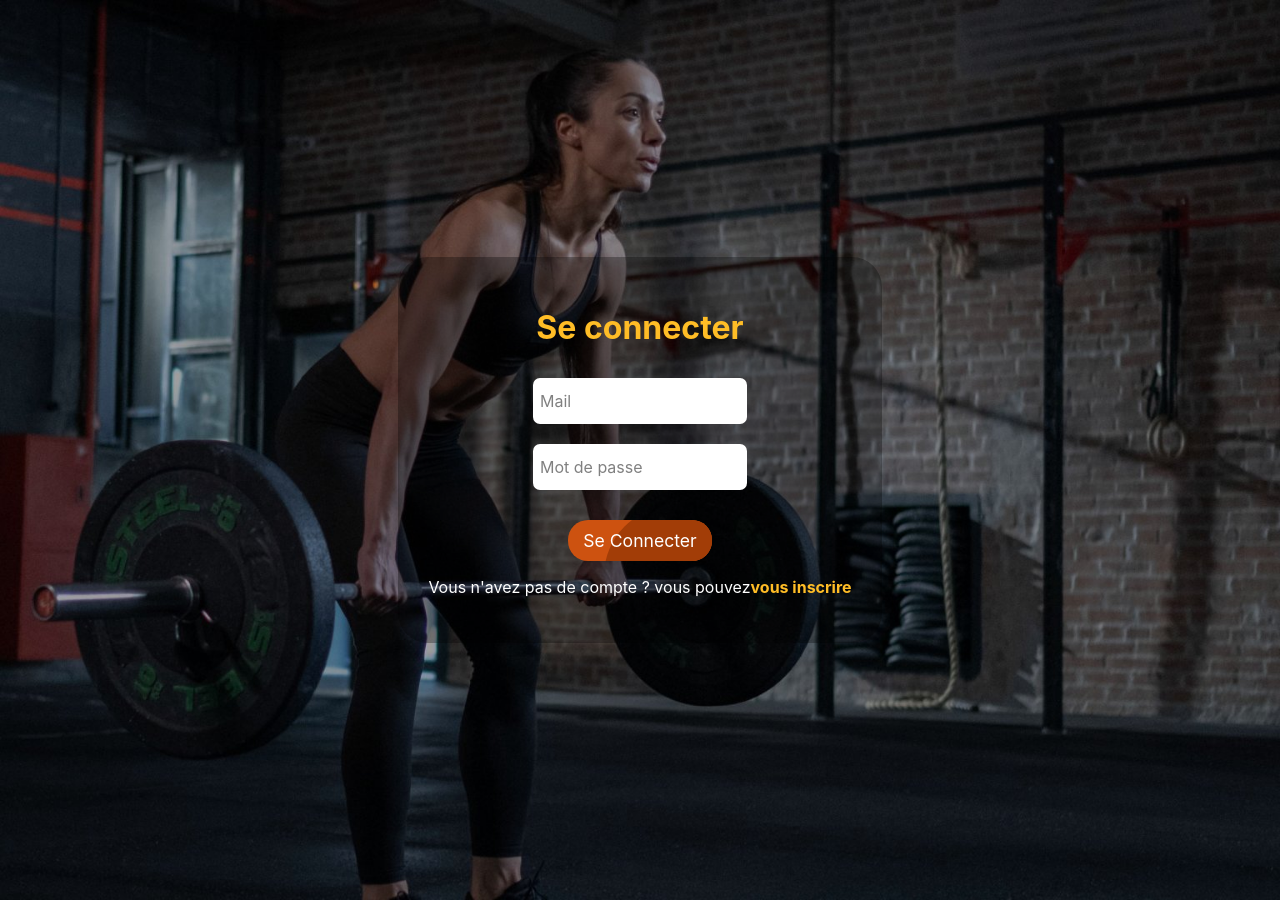
Signin Testing › Err with empty pass
# user type mail adress
In the field with placeholder "Mail": (640, 401) top-left (533, 378), bottom-right (747, 424), type "uneadressemail@gmail.com"
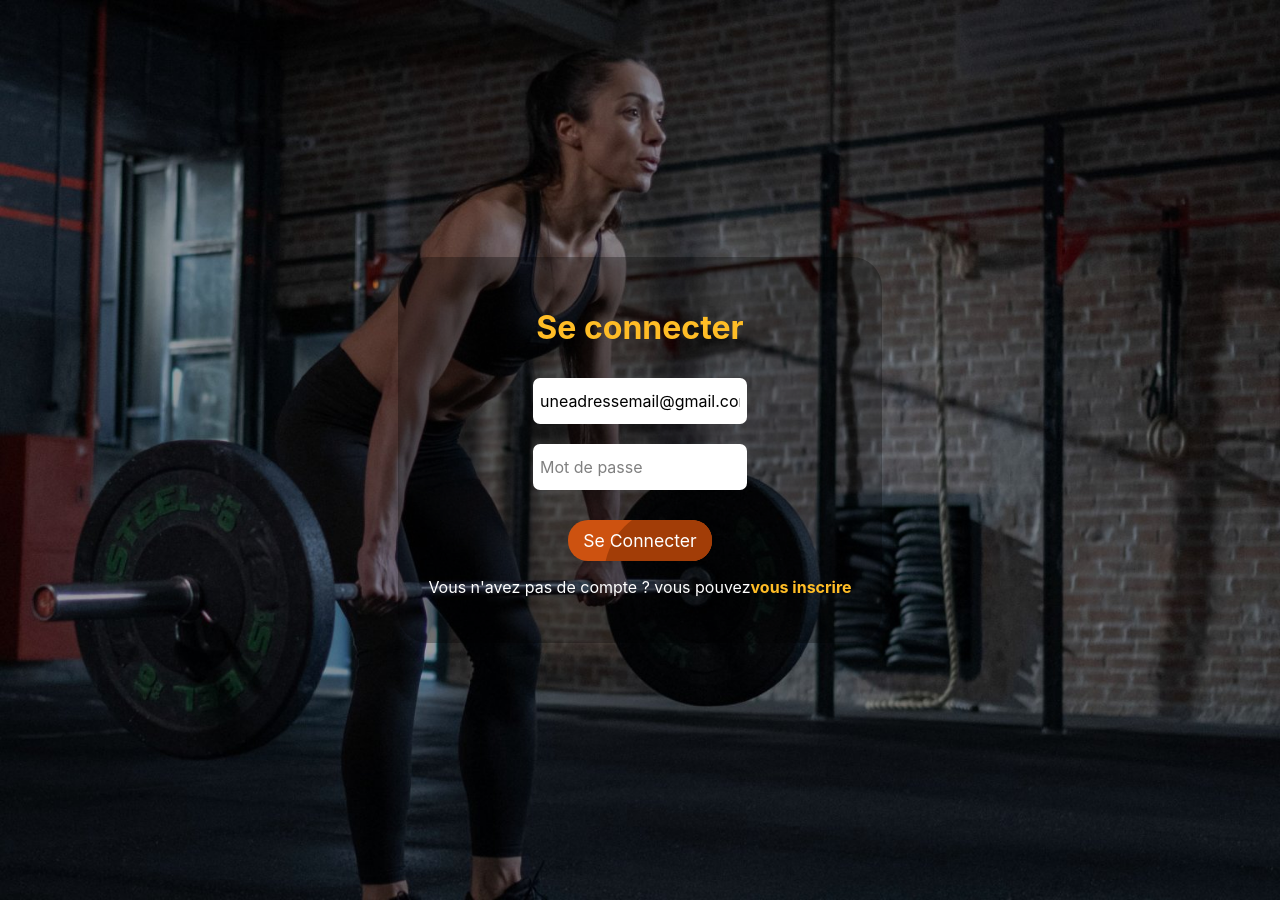
Check: the text "Merci de renseigner un mot de passe" is not shown
Click the button "Se Connecter": (640, 541) top-left (568, 520), bottom-right (712, 561)
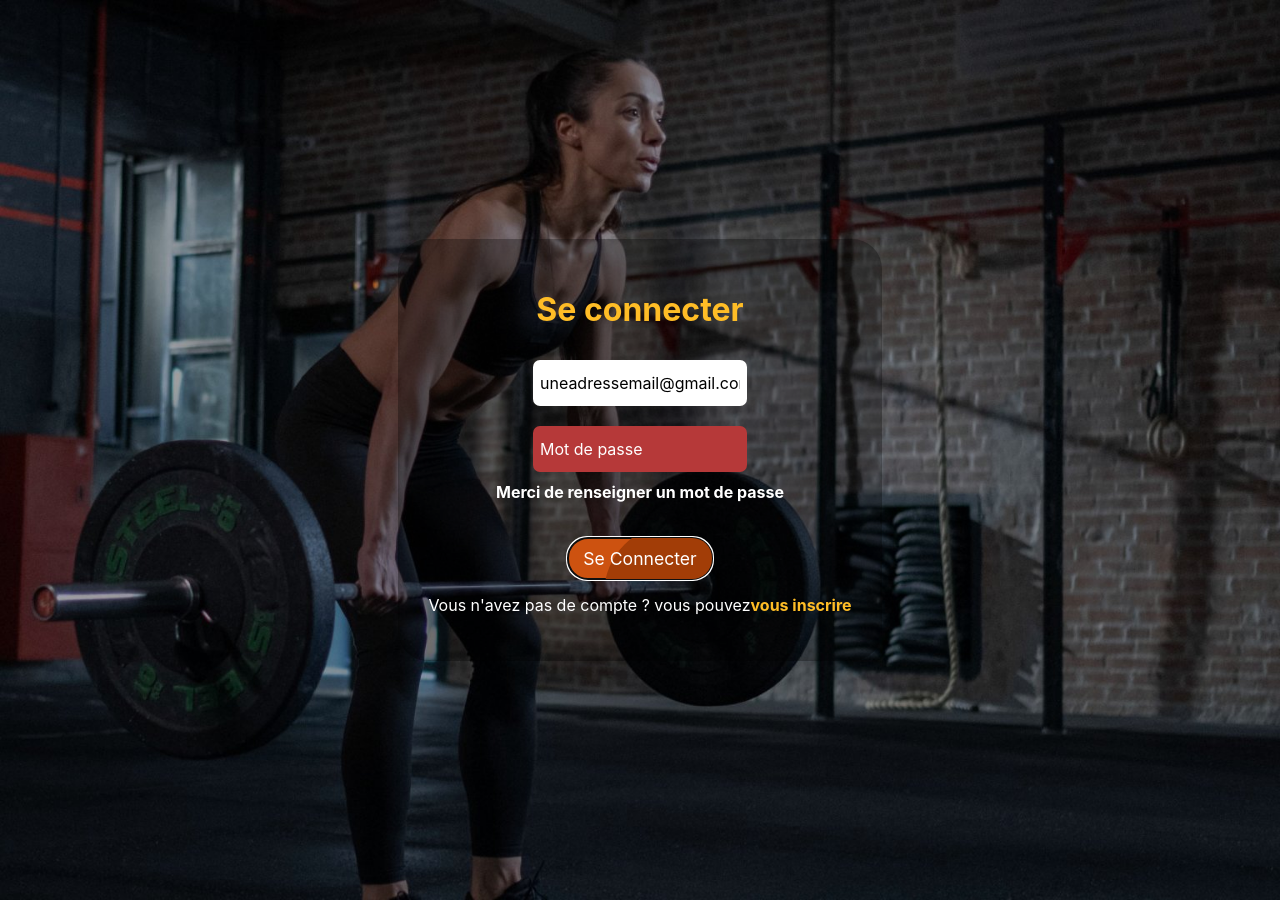
Check: the text "Merci de renseigner un mot de passe" is shown, box top-left (496, 482), bottom-right (784, 502)
